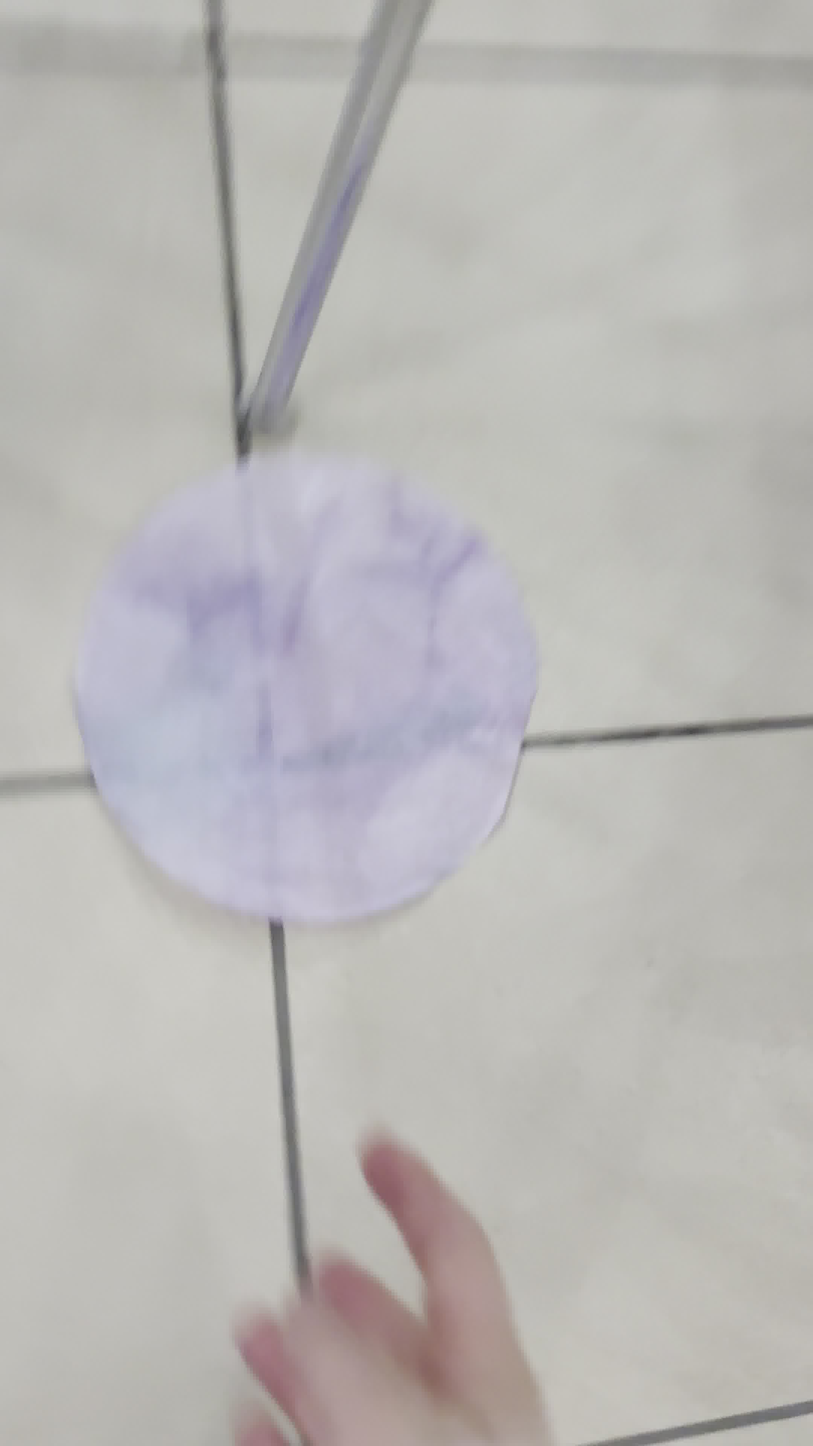Target: (68, 486, 537, 913)
